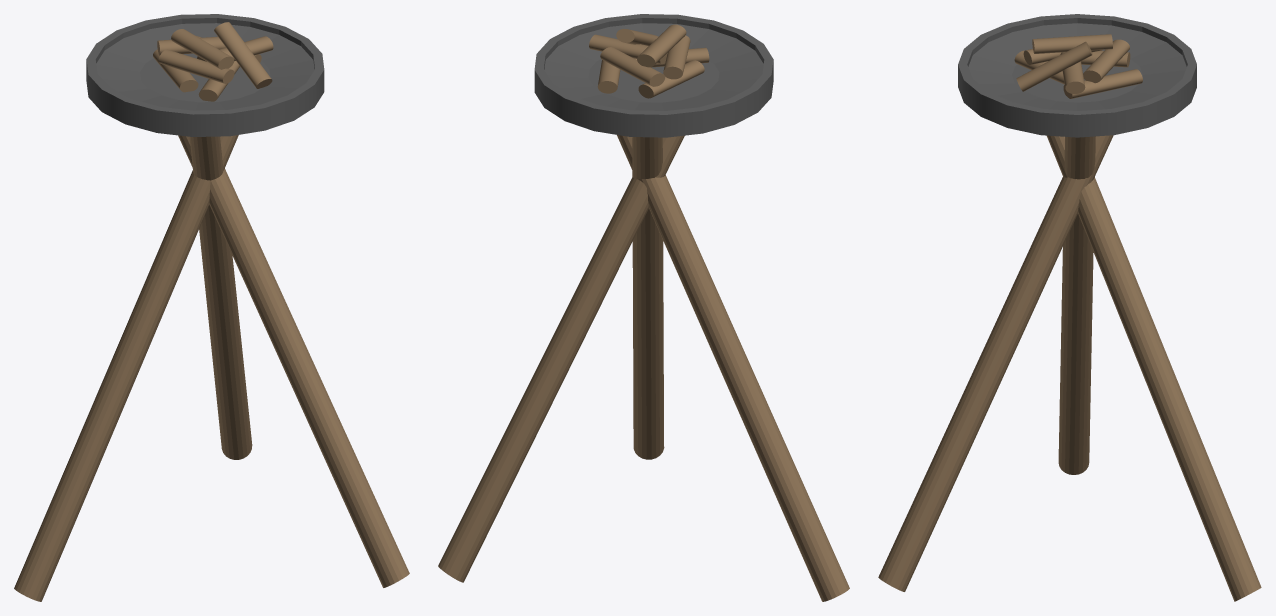
File: flame holder export 1.fbx
The picture shows the model from 3 angles, left to right: view 1: azimuth 30°, elevation 25°; view 2: azimuth 150°, elevation 25°; view 3: azimuth 270°, elevation 25°; orthographic projection.
Parts seen in each view (by area): view 1: pCylinder13; view 2: pCylinder13; view 3: pCylinder13.
Part boxes in pixels (x1,y1,x2,y2): pCylinder13: (14, 14, 409, 601); pCylinder13: (438, 14, 849, 601); pCylinder13: (878, 14, 1261, 601).
Size of the model in its own units: 3.09 by 4.85 by 3.2.
